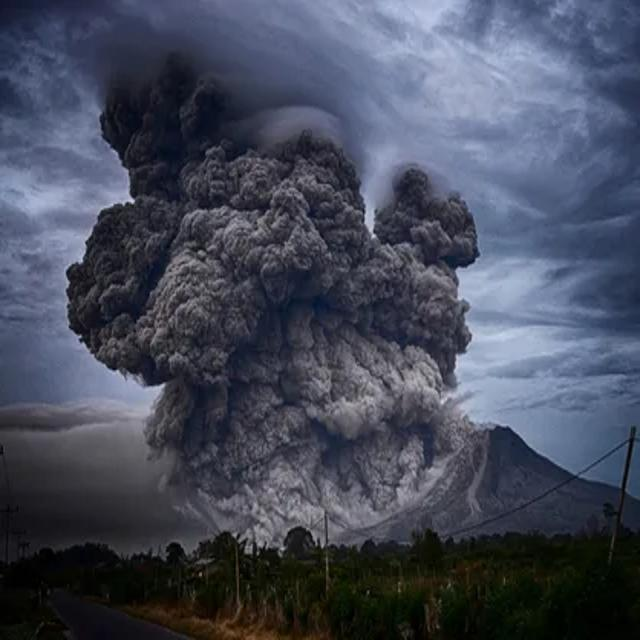Smoke: (66, 62, 478, 511)
